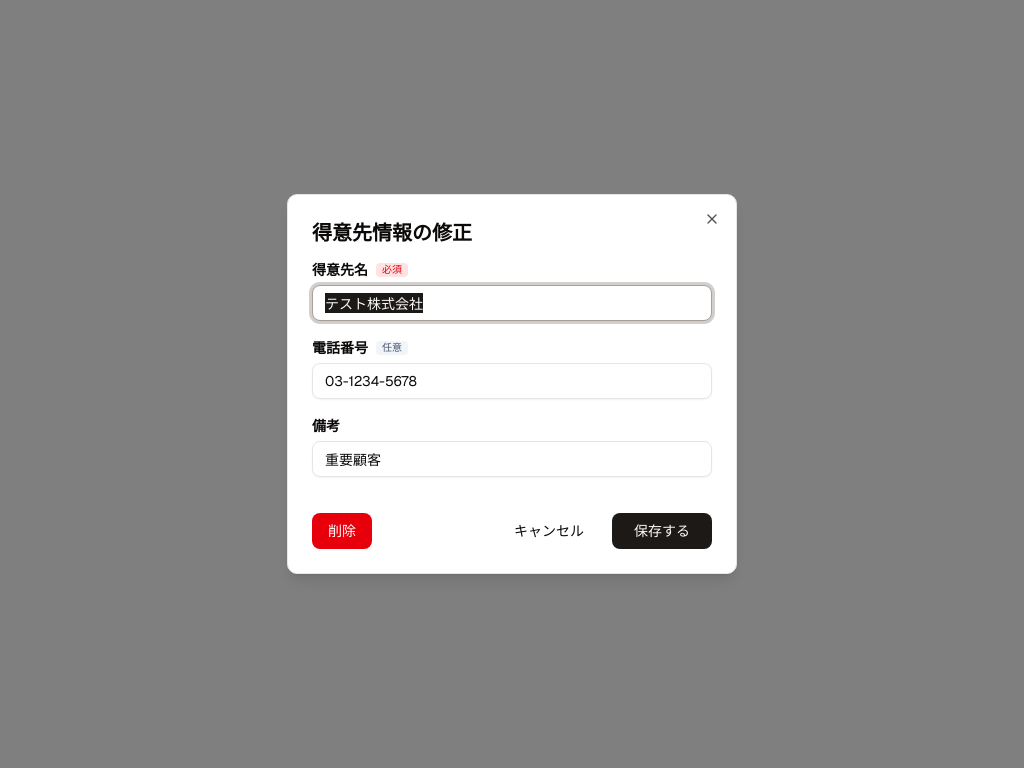
CustomerDialog コンポーネント（編集） › 「削除」ボタンをクリックすると確認ダイアログが表示されること
Click the button "削除": (342, 531) x1=312 y1=513 x2=372 y2=549
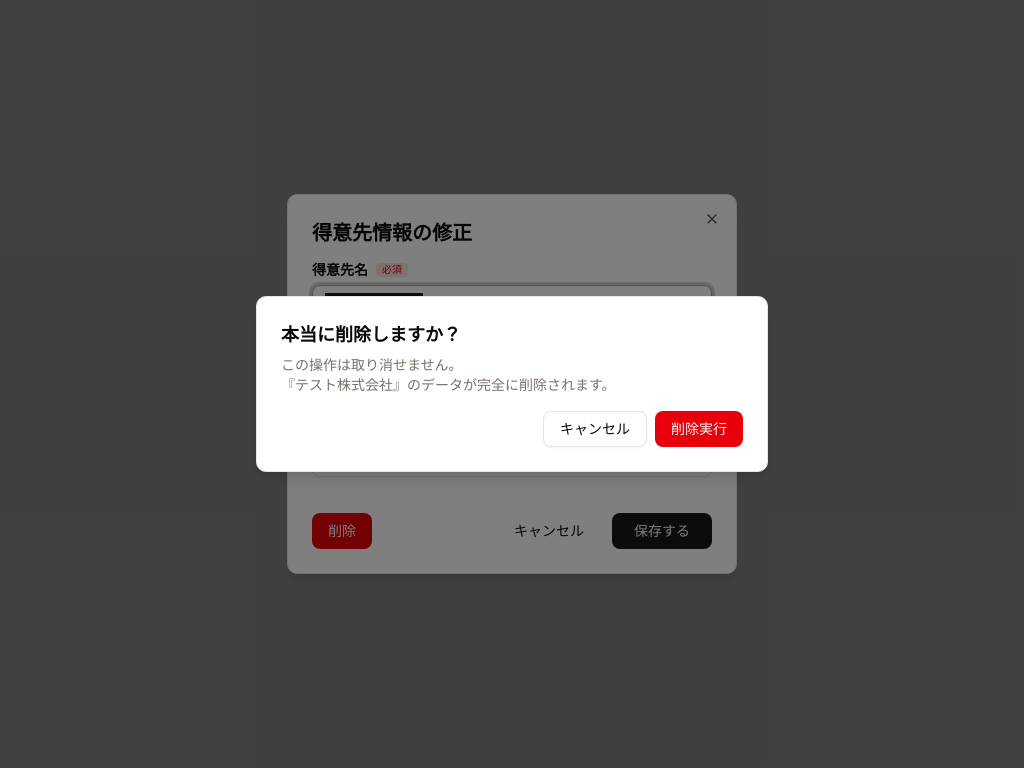
Check: the heading "本当に削除しますか？" is shown, box x1=281 y1=321 x2=461 y2=349
Check: the text "この操作は取り消せません。『テスト株式会社』のデータが完全に削除されます。" is shown, box x1=281 y1=355 x2=616 y2=395
